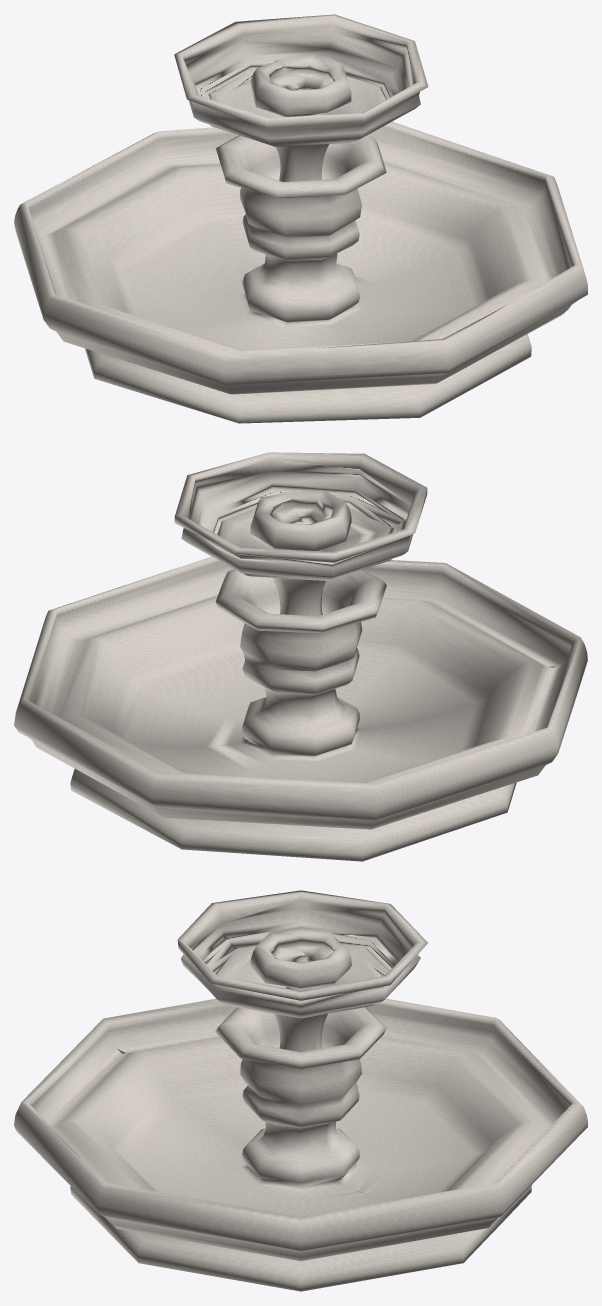
File: FontAeneUdenVand2.glb
The picture shows the model from 3 angles, top to bottom: view 1: azimuth 30°, elevation 25°; view 2: azimuth 150°, elevation 25°; view 3: azimuth 270°, elevation 25°; orthographic projection. The views are drawn at different scales.
Parts seen in each view (by area): view 1: 01_Fontaene; view 2: 01_Fontaene; view 3: 01_Fontaene.
Part boxes in pixels (x1,y1,x2,y2): 01_Fontaene: (14,14,587,423); 01_Fontaene: (14,452,587,861); 01_Fontaene: (14,890,587,1291).
Bounding box in the file's own units: 1.02 × 0.4979 × 1.02.
Materials: 1 (1 with a texture image).
